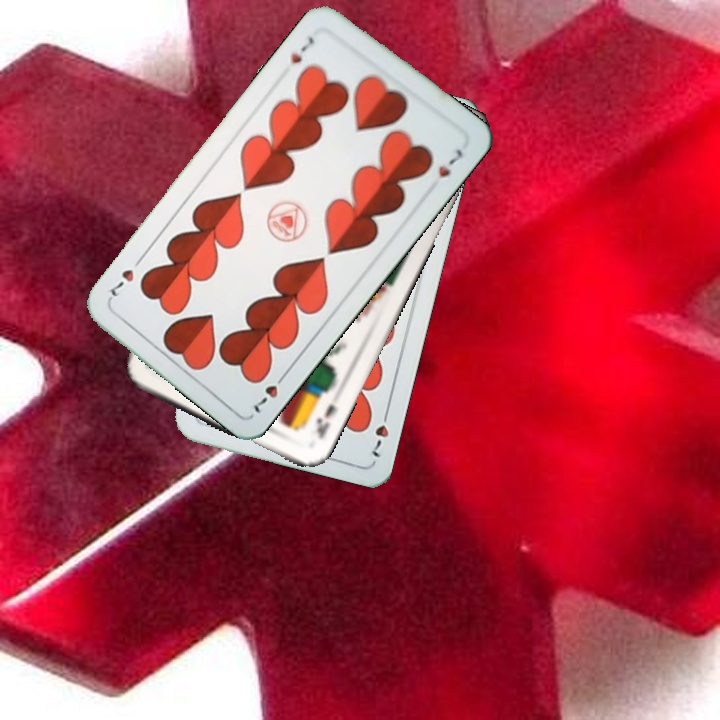EK: (312, 400, 340, 442)
H7: (249, 367, 291, 416), (367, 403, 392, 460), (286, 32, 318, 66)
